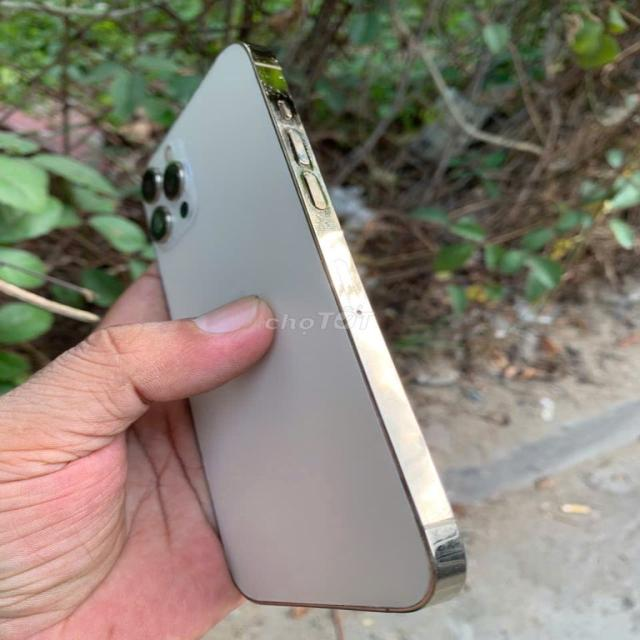scratch: (254, 58, 334, 190), (432, 503, 472, 580)
